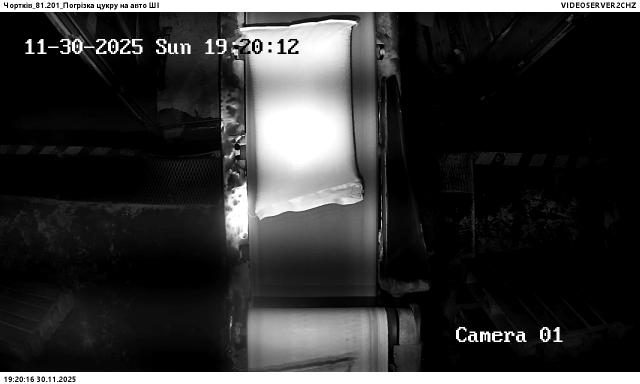bag: (240, 20, 365, 219)
